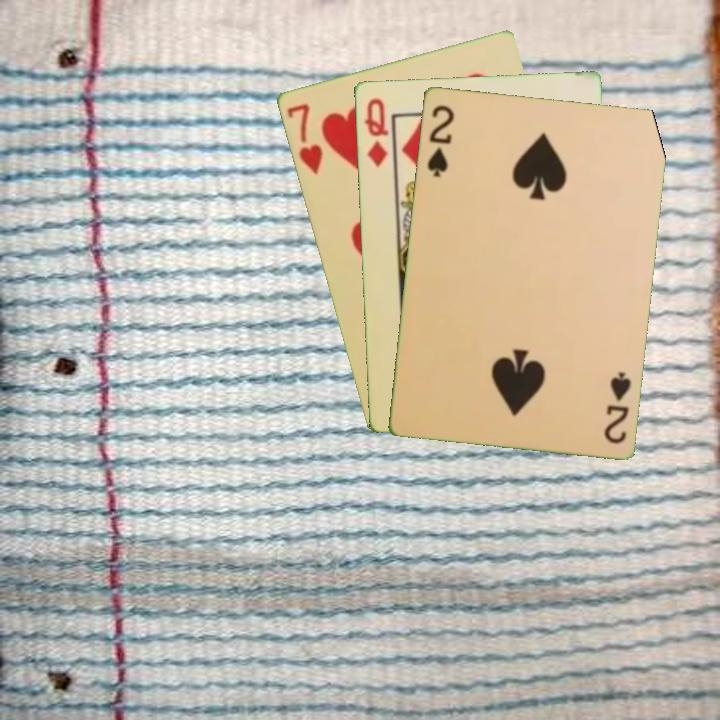2s: (423, 101, 457, 180), (600, 367, 634, 446)
7h: (283, 99, 326, 177)
Qd: (360, 94, 390, 169)
